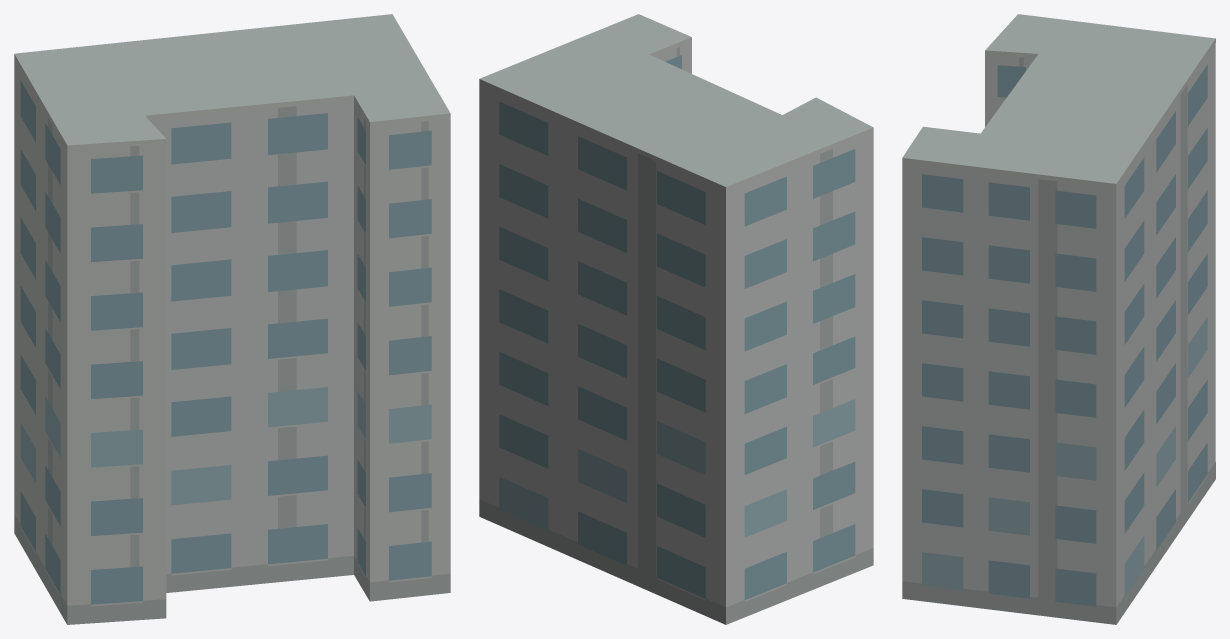
Rendered from survey-upis-32975311.glb.
The picture shows the model from 3 angles, left to right: view 1: azimuth 30°, elevation 25°; view 2: azimuth 150°, elevation 25°; view 3: azimuth 270°, elevation 25°; orthographic projection. The views are drawn at different scales.
Visible parts, largest first — view 1: survey-upis-32975311.tmp; view 2: survey-upis-32975311.tmp; view 3: survey-upis-32975311.tmp.
Boxes of the visible parts, x1=… form: survey-upis-32975311.tmp: x1=14, y1=14, x2=450, y2=624; survey-upis-32975311.tmp: x1=479, y1=14, x2=873, y2=624; survey-upis-32975311.tmp: x1=902, y1=14, x2=1215, y2=624.
Bounding box in the file's own units: 18.64 × 22.55 × 14.54.
